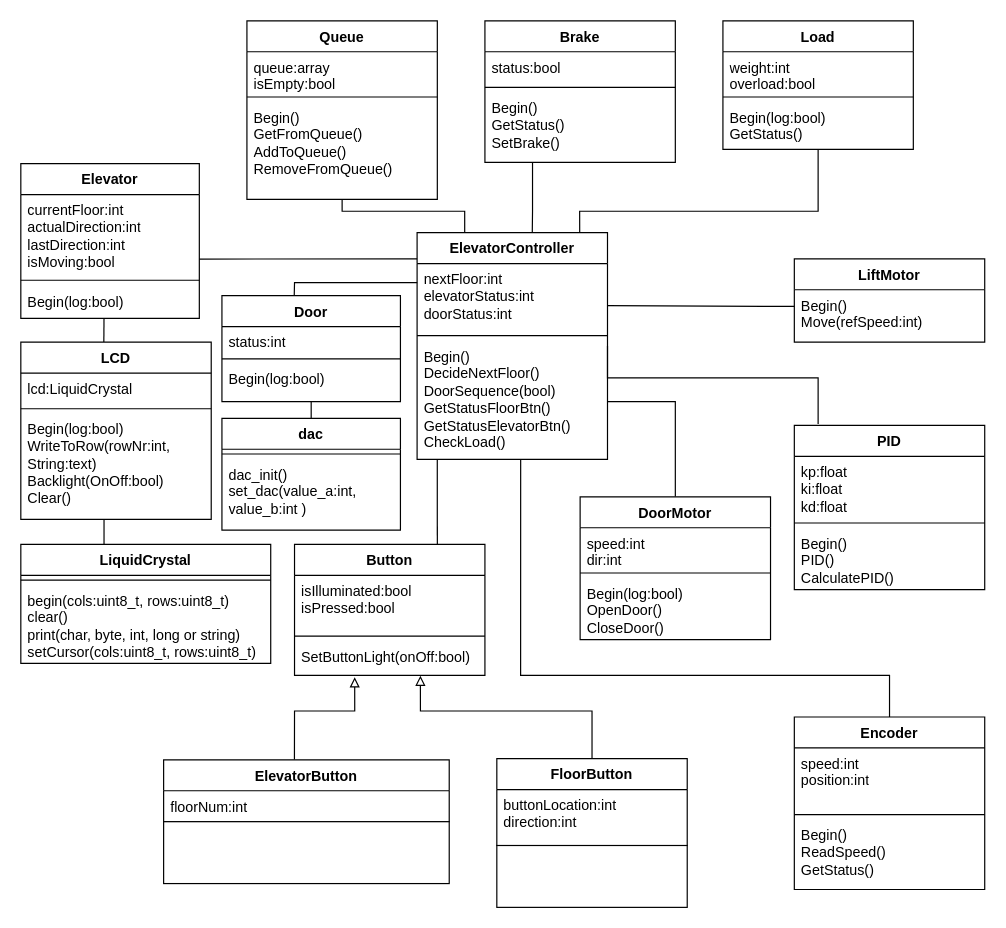
Image size: 1006x928. Some labels were removed from this diagram. The shapes that lost their labels are listed below. From the top down, each one's centre as x and y in pixels, then its label:
At (305,852): "Begin(inputPin:int, outputPin:int, log:bool) GetStatus() Update()".
At (591,875): "Begin(log:bool) GetStatus(pressedKey:char) SetButtonLight(onOff:bool)".
